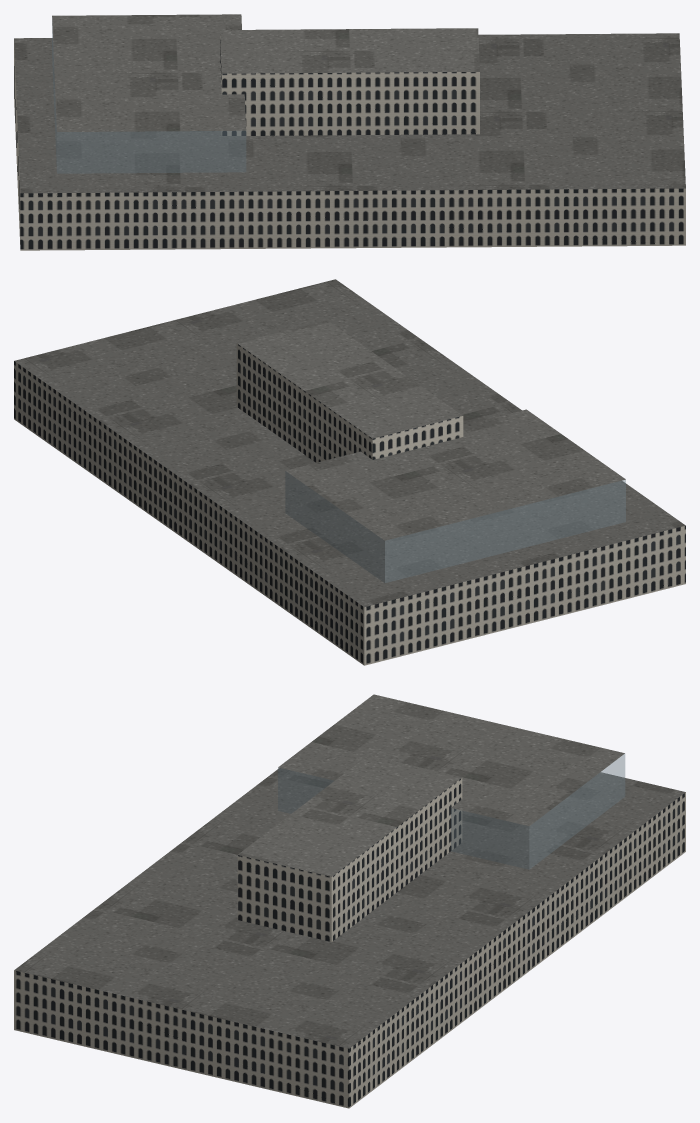
Rendered from pennOld.glb.
3 renders of one model, top to bottom at view 1: azimuth 30°, elevation 25°; view 2: azimuth 150°, elevation 25°; view 3: azimuth 270°, elevation 25°, orthographic. The views are drawn at different scales.
Visible parts, largest first — view 1: pennOld; view 2: pennOld; view 3: pennOld.
Part boxes in pixels (<box>): pennOld: <box>14,14,685,250</box>; pennOld: <box>14,279,685,665</box>; pennOld: <box>14,694,685,1108</box>.
Size of the model in its own units: 265 by 46 by 224.
Materials: 6 (5 with a texture image).
